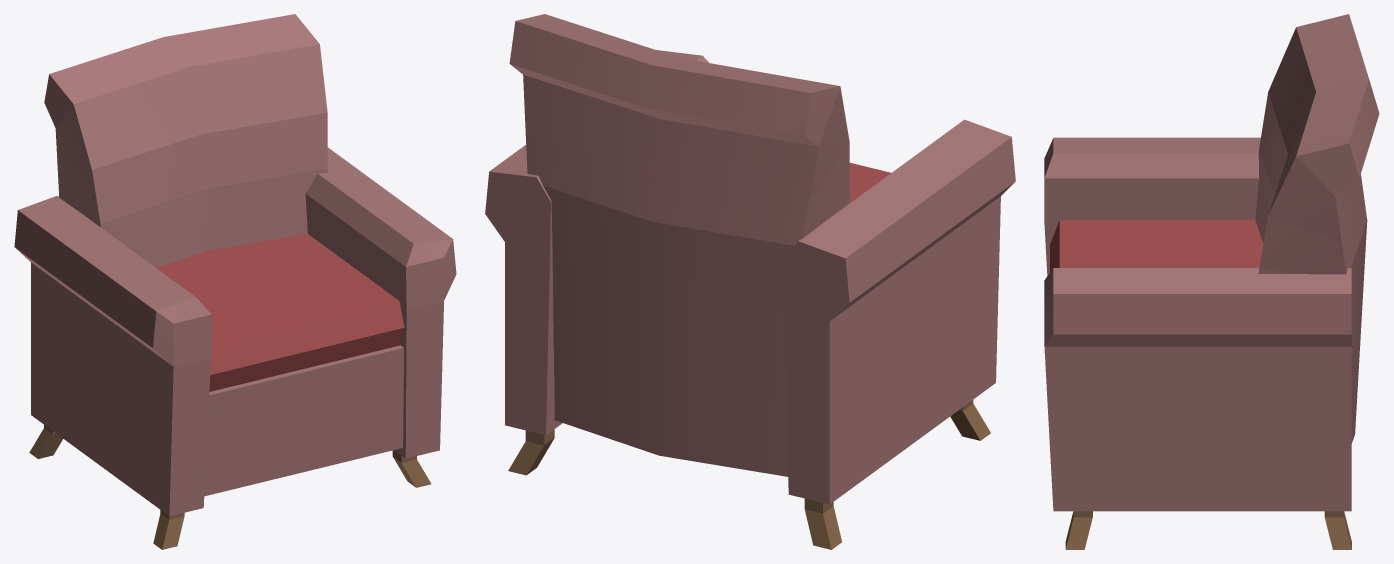
Rendered from Mansion_Chair_Comfy.fbx.
3 renders of one model, left to right at view 1: azimuth 30°, elevation 25°; view 2: azimuth 150°, elevation 25°; view 3: azimuth 270°, elevation 25°, orthographic. The views are drawn at different scales.
Visible parts, largest first — view 1: pCube14; view 2: pCube14; view 3: pCube14.
Boxes of the visible parts, box(x1,y1,x2,y2) form: pCube14: box(14, 14, 456, 549); pCube14: box(485, 14, 1015, 549); pCube14: box(1044, 14, 1379, 549).
Bounding box in the file's own units: 106 × 126 × 94.39.
